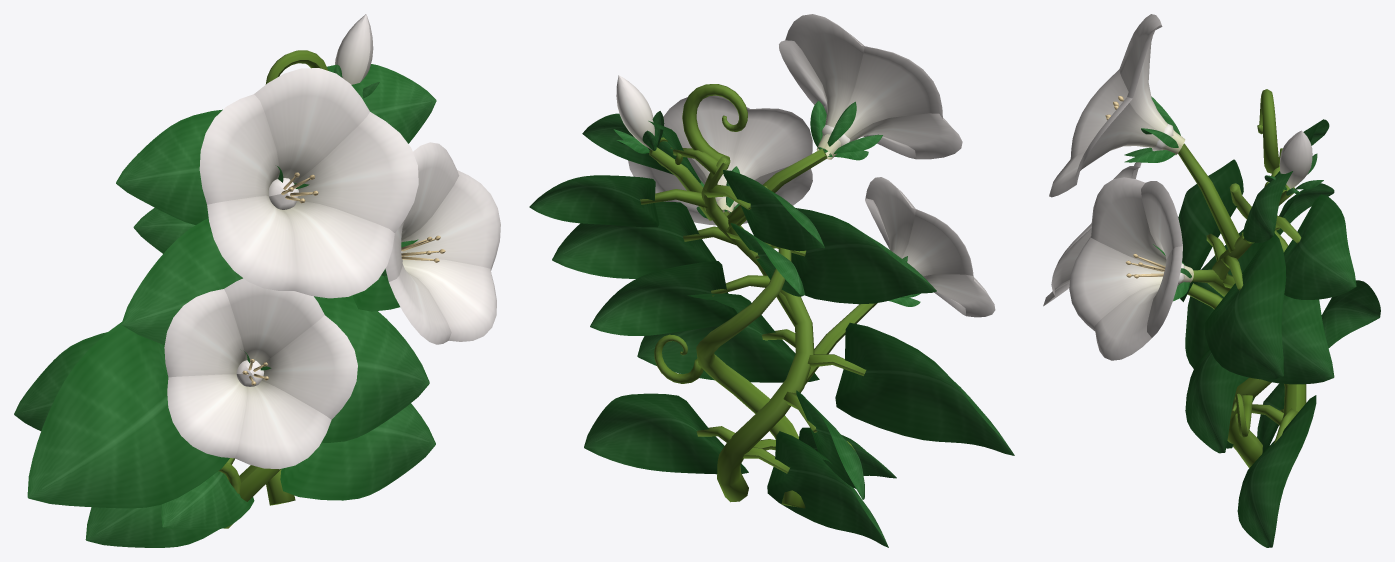
File: NP_Moonflower_Ready.fbx
3 renders of one model, left to right at view 1: azimuth 30°, elevation 25°; view 2: azimuth 150°, elevation 25°; view 3: azimuth 270°, elevation 25°, orthographic. The views are drawn at different scales.
Visible parts, largest first — view 1: NP_Moonflower_Ready.001; view 2: NP_Moonflower_Ready.001; view 3: NP_Moonflower_Ready.001.
Part boxes in pixels (bbox=[...]): NP_Moonflower_Ready.001: bbox=[14, 14, 500, 547]; NP_Moonflower_Ready.001: bbox=[529, 14, 1014, 547]; NP_Moonflower_Ready.001: bbox=[1043, 14, 1380, 547].
Size of the model in its own units: 104 by 106 by 71.25.
